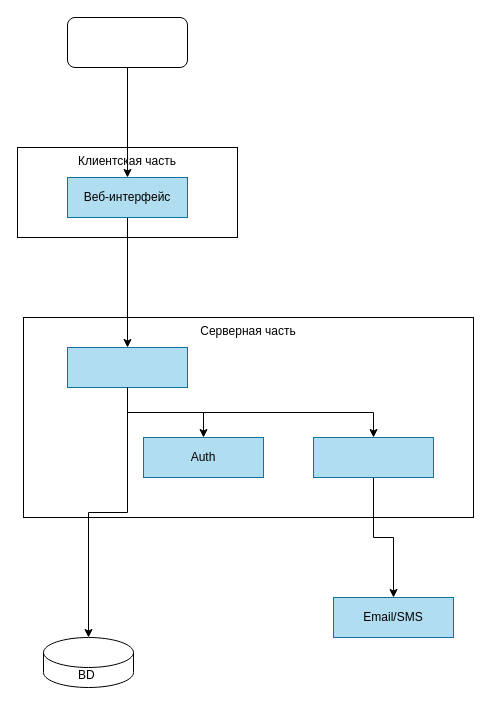
This 491x705 diagram has some shape labels left out. The centre of each missing label's shape, as x and y in pixels:
API: point (127, 367)
Пользователь: point (127, 42)
Уведомления: point (373, 457)
